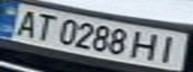0: (51, 16, 81, 47)
2: (72, 19, 96, 52)
8: (109, 26, 133, 57), (90, 22, 112, 54)
A: (6, 7, 42, 38)
H: (130, 29, 163, 62)
I: (151, 33, 187, 64)
T: (27, 11, 60, 42)
